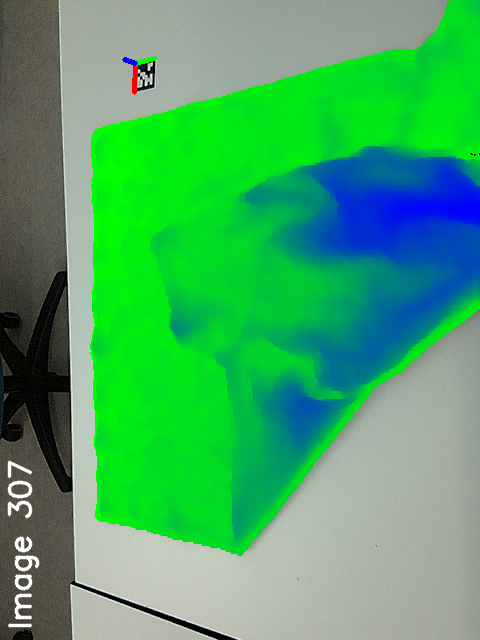V: (138, 218, 191, 260), (155, 300, 197, 350)
